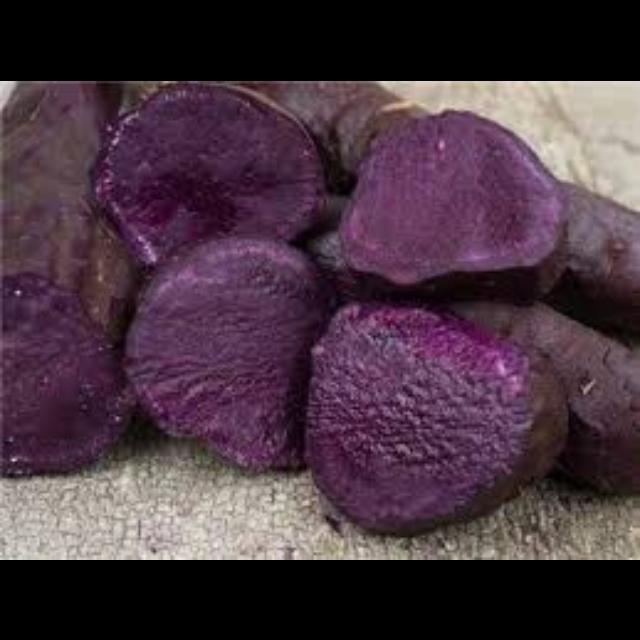Defected potato: (300, 297, 636, 543), (0, 80, 152, 476), (125, 228, 338, 468), (333, 105, 565, 297), (87, 80, 321, 264)
